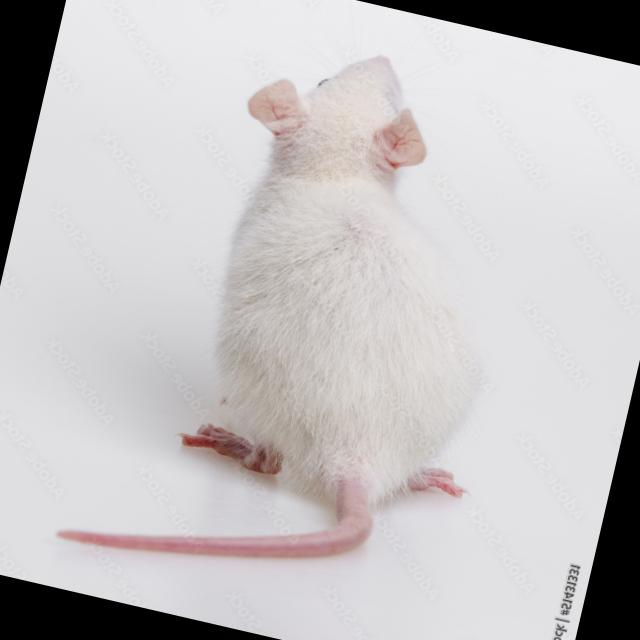rodents: (143, 17, 556, 554)
